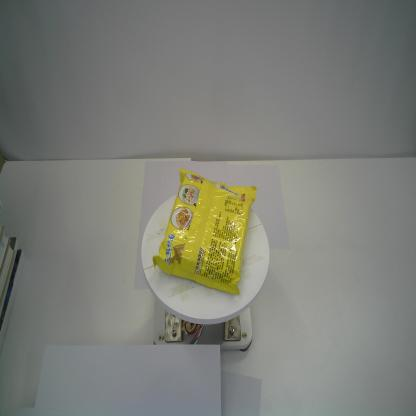Instant Noodles: (150, 166, 258, 298)
